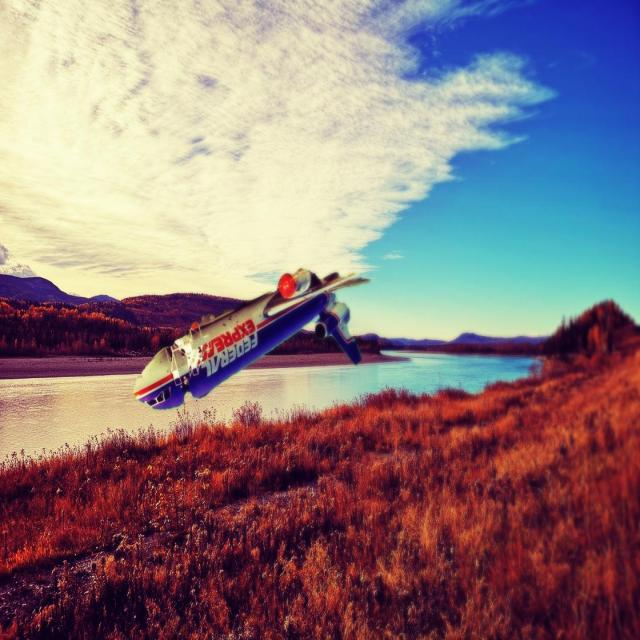airplane: (132, 266, 370, 411)
